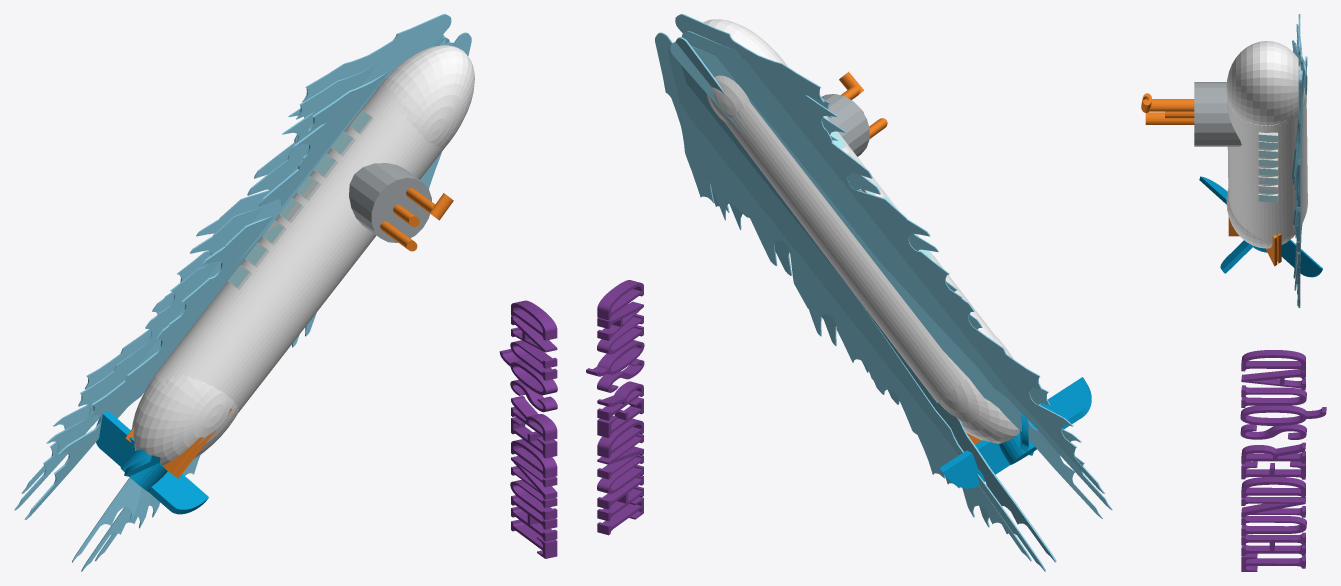
Rendered from tinker.obj.
3 renders of one model, left to right at view 1: azimuth 30°, elevation 25°; view 2: azimuth 150°, elevation 25°; view 3: azimuth 270°, elevation 25°, orthographic. The views are drawn at different scales.
Visible parts, largest first — view 1: group_0_16448250, group_0_8768998, group_0_8273816, group_0_10988977, group_0_40919, group_0_16089887, group_0_11593967, group_0_14541540; view 2: group_0_8768998, group_0_16448250, group_0_8273816, group_0_40919, group_0_10988977, group_0_16089887; view 3: group_0_16448250, group_0_8273816, group_0_10988977, group_0_8768998, group_0_16089887, group_0_40919, group_0_11593967, group_0_14541540.
Part boxes in pixels (left/top/right/bottom): group_0_16448250: left=132, top=45, right=474, bottom=465; group_0_8768998: left=14, top=14, right=471, bottom=571; group_0_8273816: left=499, top=300, right=557, bottom=558; group_0_10988977: left=349, top=163, right=431, bottom=242; group_0_40919: left=96, top=411, right=208, bottom=514; group_0_16089887: left=125, top=188, right=453, bottom=478; group_0_11593967: left=229, top=111, right=370, bottom=286; group_0_14541540: left=228, top=110, right=373, bottom=289; group_0_8768998: left=655, top=14, right=1112, bottom=571; group_0_16448250: left=703, top=19, right=1019, bottom=443; group_0_8273816: left=586, top=280, right=644, bottom=535; group_0_40919: left=940, top=377, right=1091, bottom=488; group_0_10988977: left=821, top=94, right=869, bottom=156; group_0_16089887: left=839, top=71, right=981, bottom=444; group_0_16448250: left=1226, top=41, right=1307, bottom=248; group_0_8273816: left=1240, top=350, right=1326, bottom=571; group_0_10988977: left=1194, top=82, right=1241, bottom=146; group_0_8768998: left=1292, top=14, right=1307, bottom=307; group_0_16089887: left=1141, top=93, right=1281, bottom=266; group_0_40919: left=1199, top=176, right=1322, bottom=277; group_0_11593967: left=1259, top=135, right=1277, bottom=202; group_0_14541540: left=1258, top=132, right=1278, bottom=202.
Bounding box in the file's own units: 168 × 169 × 57.38.
